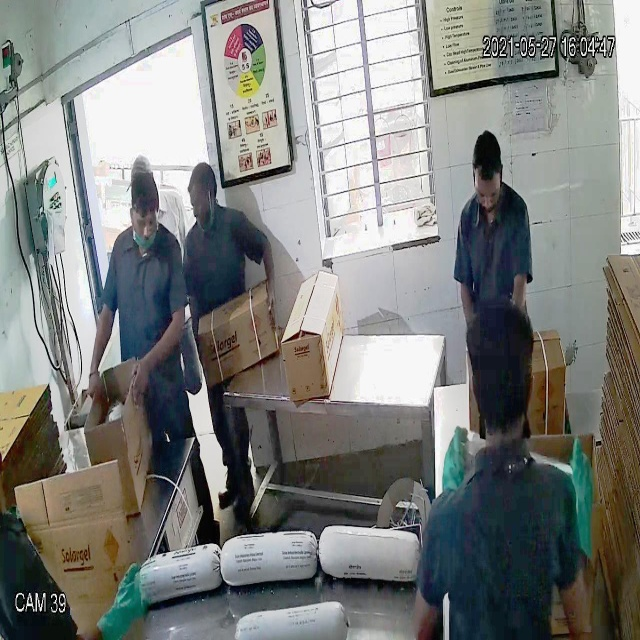Sin_gafas: (128, 204, 165, 237), (472, 173, 502, 208)
